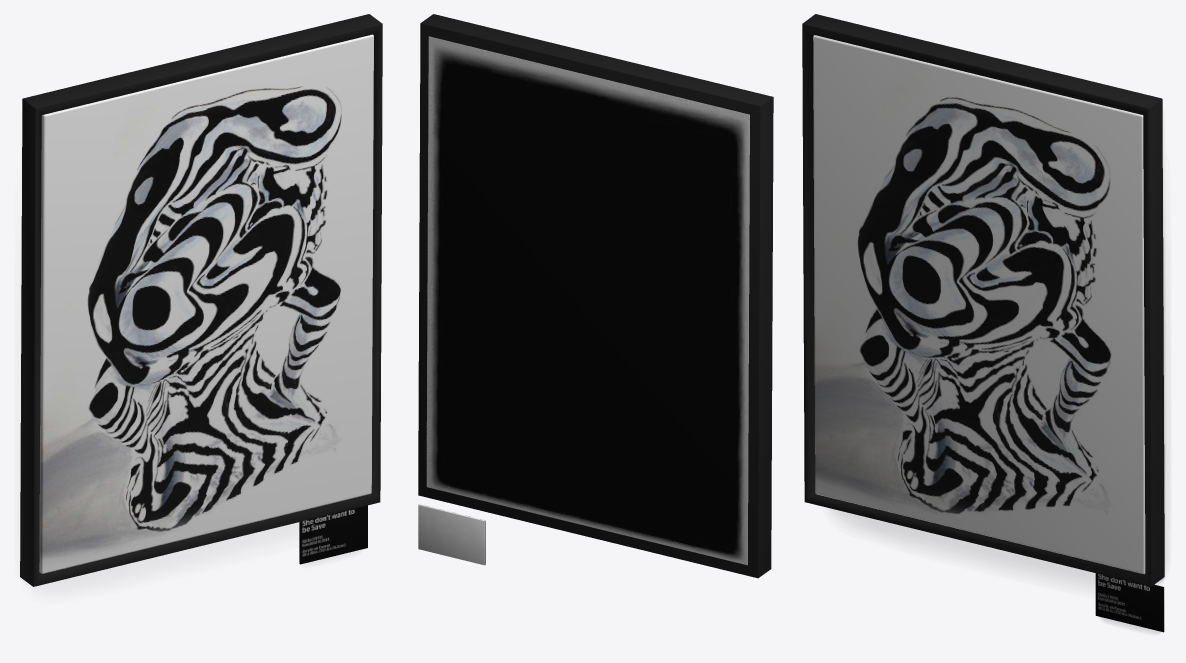
The model's file is sdwtbs.glb.
3 views of the same model, side by side, from view 1: azimuth 30°, elevation 25°; view 2: azimuth 150°, elevation 25°; view 3: azimuth 330°, elevation 25° (orthographic). The views are drawn at different scales.
Visible parts, largest first — view 1: Canvas, frame, shadow, tag; view 2: Canvas, frame, tag; view 3: Canvas, frame, shadow, tag.
Boxes of the visible parts, x1,y1,x2,y2 form: Canvas: (39,34,373,573); frame: (20,14,382,586); shadow: (20,214,298,594); tag: (299,505,367,564); Canvas: (426,36,749,565); frame: (418,14,773,578); tag: (418,504,485,565); Canvas: (813,35,1145,574); frame: (802,14,1164,586); shadow: (832,158,1168,586); tag: (1095,573,1164,632).
Size of the model in its own units: 8.29 by 12.14 by 0.6285.
3 materials, 2 textured.
